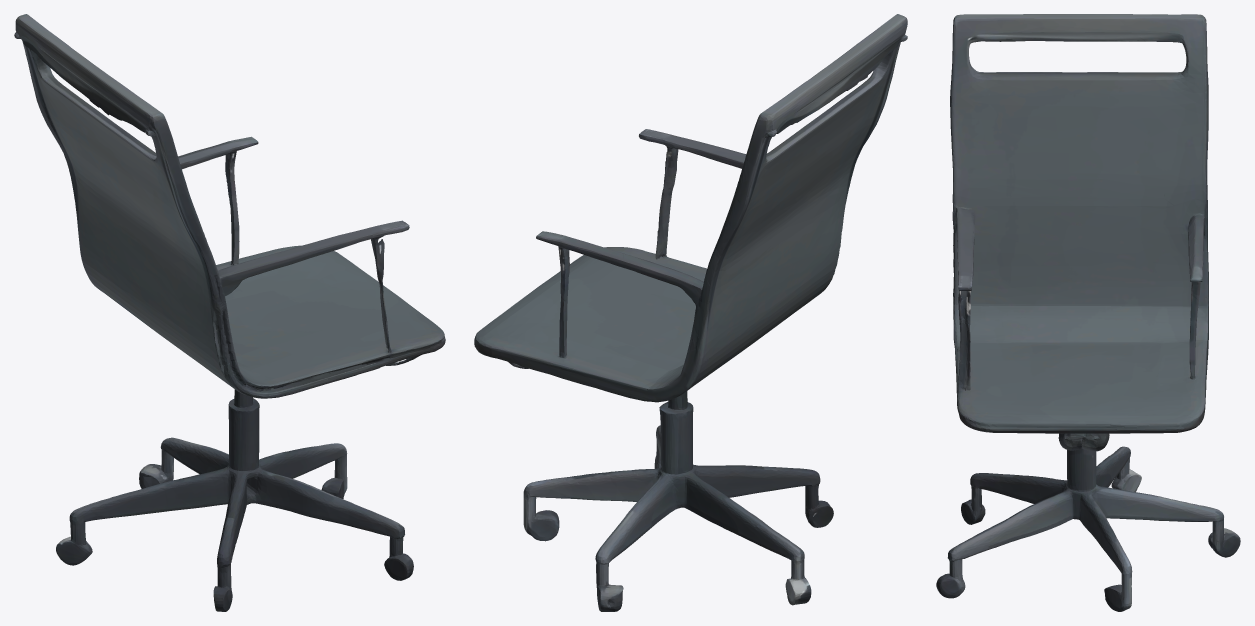
3 renders of one model, left to right at view 1: azimuth 30°, elevation 25°; view 2: azimuth 150°, elevation 25°; view 3: azimuth 270°, elevation 25°, orthographic. The views are drawn at different scales.
Parts seen in each view (by area): view 1: computer_chair_48.obj; view 2: computer_chair_48.obj; view 3: computer_chair_48.obj.
Part boxes in pixels (x1=…): computer_chair_48.obj: x1=14, y1=14, x2=445, y2=611; computer_chair_48.obj: x1=474, y1=14, x2=907, y2=611; computer_chair_48.obj: x1=936, y1=14, x2=1240, y2=611.
Size of the model in its own units: 0.5649 by 0.9 by 0.5233.
Materials: 1 (1 with a texture image).
